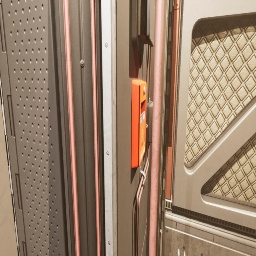FireAlarm ,: (131, 80, 147, 168)
